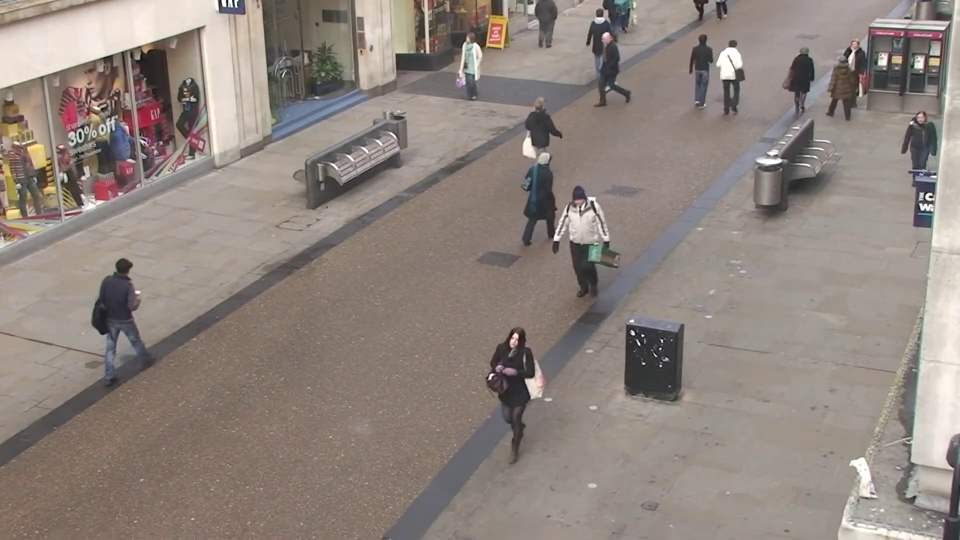pedestrian: (486, 323, 534, 473), (116, 246, 170, 373), (893, 111, 938, 209), (556, 188, 593, 305), (536, 142, 570, 246), (532, 89, 562, 178), (834, 38, 868, 116), (818, 50, 851, 130), (786, 41, 816, 119), (720, 34, 747, 109), (455, 33, 481, 105), (691, 30, 716, 103), (586, 29, 610, 101), (590, 4, 613, 69)
